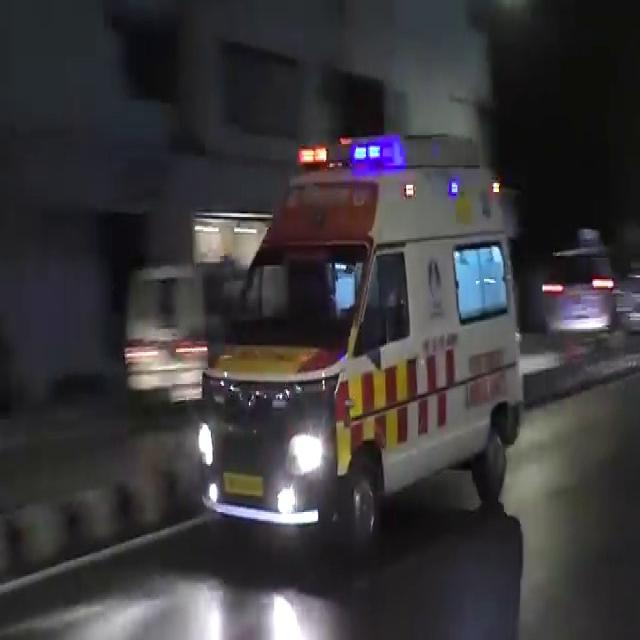ambulance: (210, 161, 525, 535)
